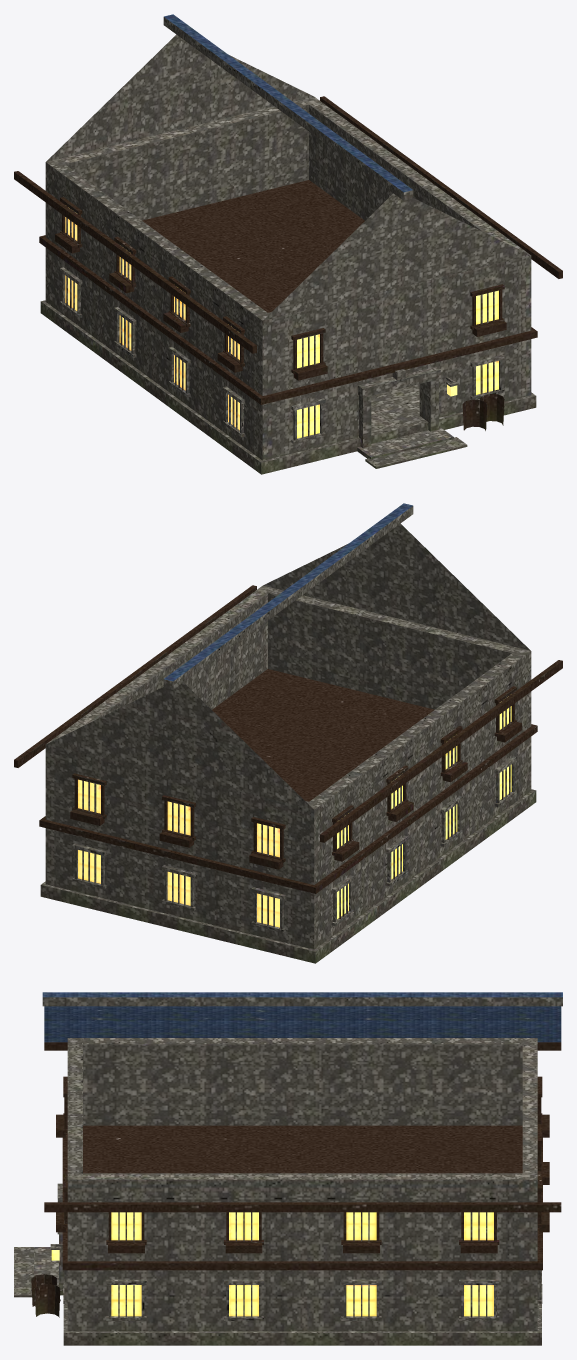
File: bld_crypt_card_lod1.glb
3 renders of one model, top to bottom at view 1: azimuth 30°, elevation 25°; view 2: azimuth 150°, elevation 25°; view 3: azimuth 270°, elevation 25°, orthographic. The views are drawn at different scales.
Visible parts, largest first — view 1: crypt_card; view 2: crypt_card; view 3: crypt_card.
Boxes of the visible parts, x1,y1,x2,y2 form: crypt_card: (14,14,562,474); crypt_card: (14,503,562,963); crypt_card: (14,992,562,1345).
Bounding box in the file's own units: 19.65 × 15.56 × 27.8.
Materials: 1 (1 with a texture image).
